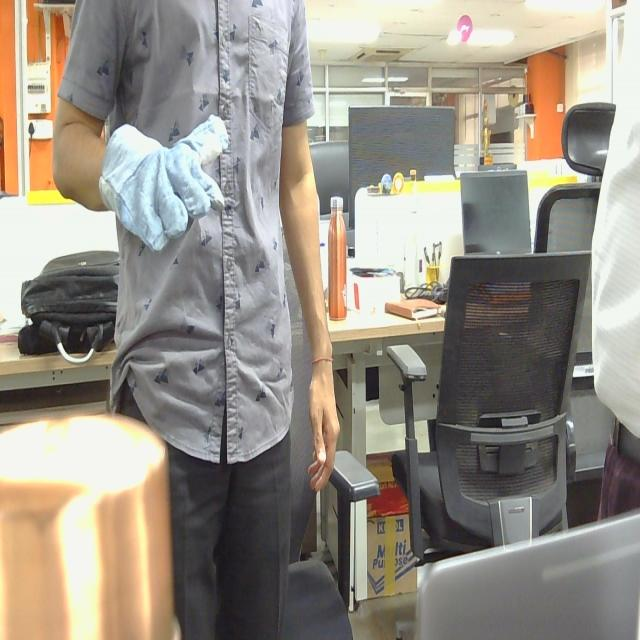Gloves-Detection: (98, 103, 231, 251)
